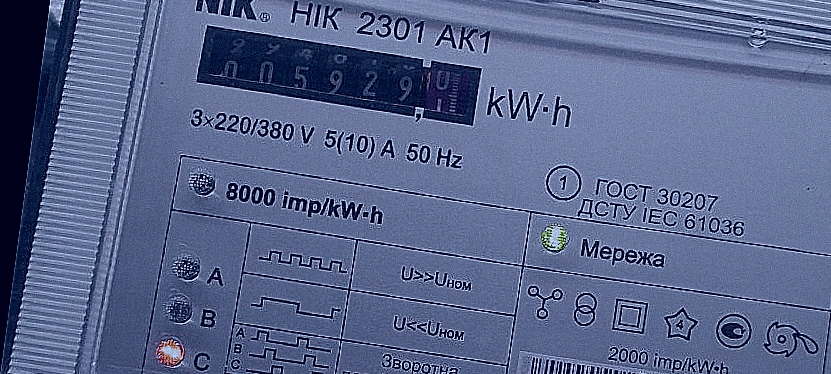0: (255, 57, 278, 87), (219, 54, 243, 79), (432, 67, 454, 93)
2: (358, 66, 381, 101)
5: (290, 61, 311, 92)
9: (394, 71, 417, 106), (322, 65, 347, 97), (227, 35, 247, 55)
screen: (188, 18, 491, 136)
